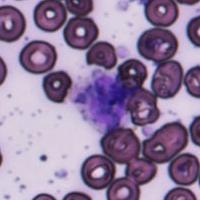D: (68, 69, 130, 134)
